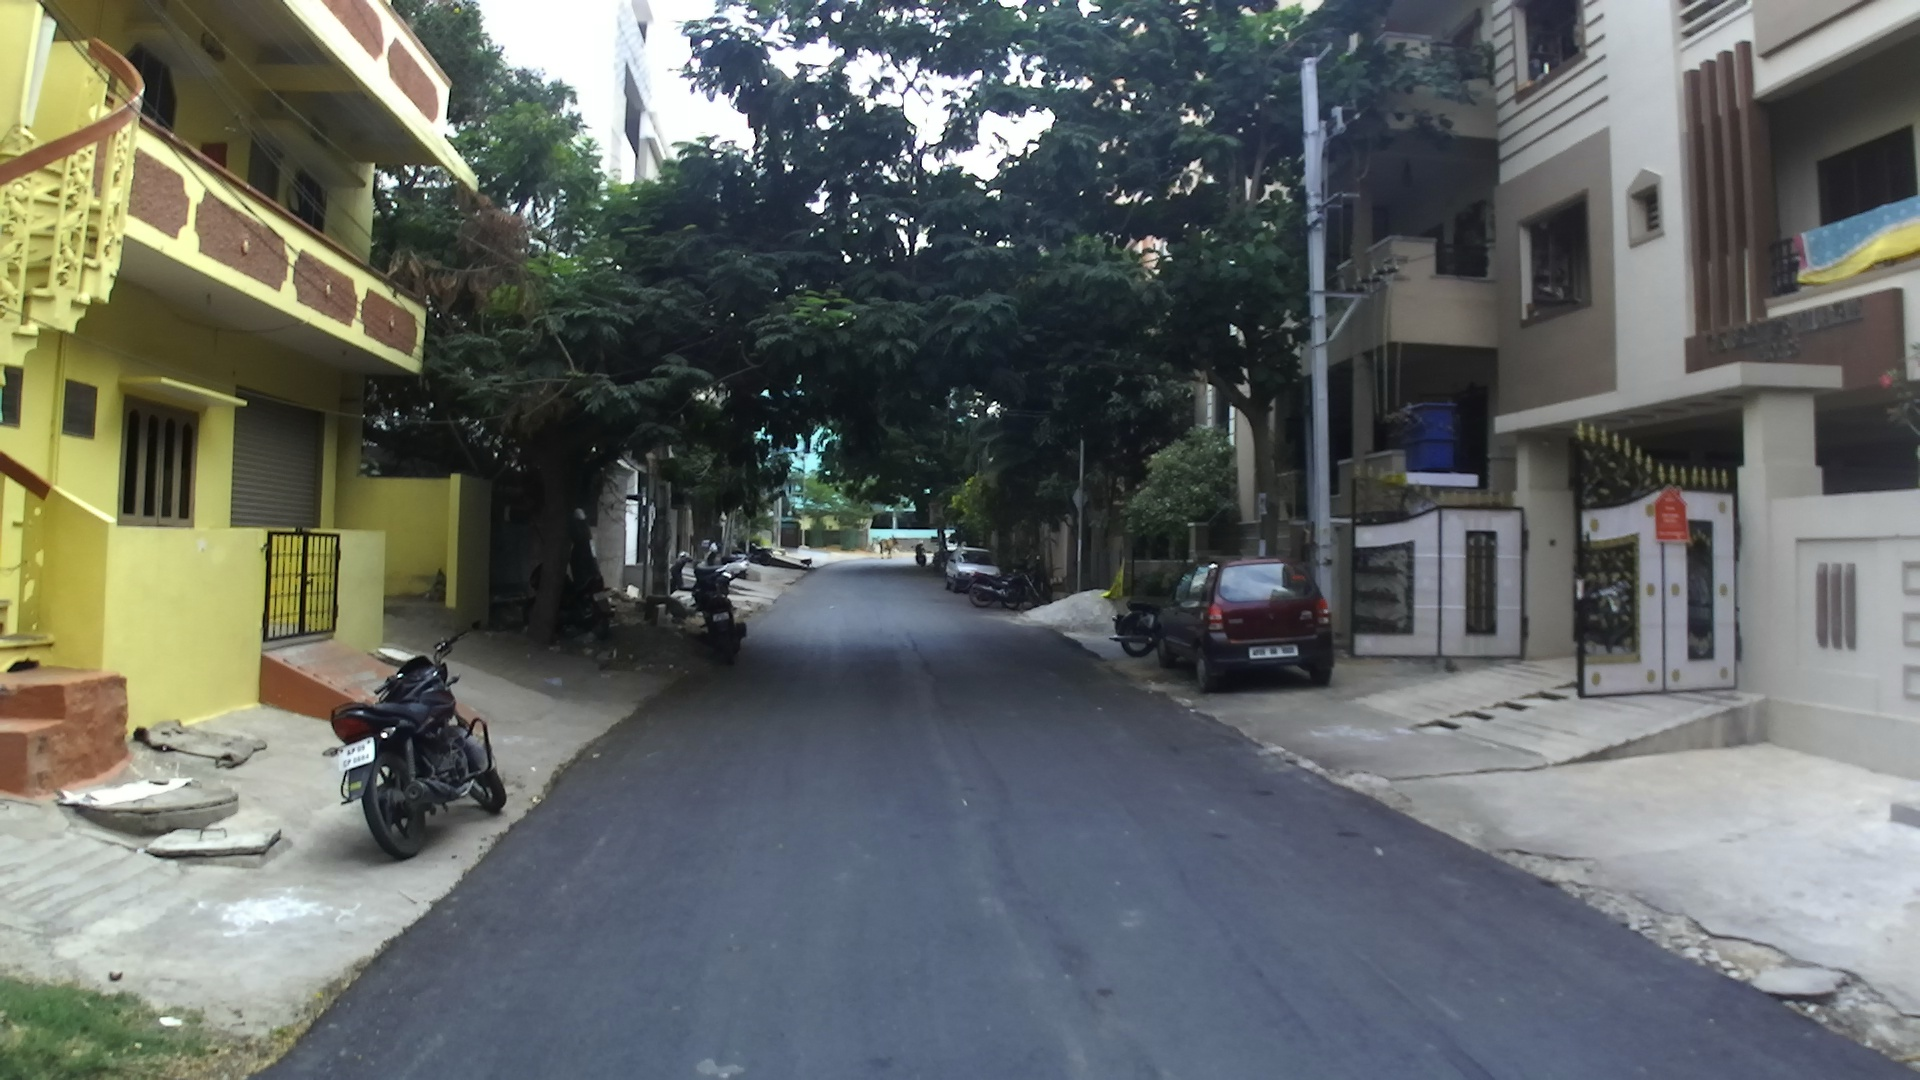vehicle: (330, 645, 506, 862), (1154, 559, 1338, 690), (688, 568, 748, 666), (1113, 605, 1167, 657), (948, 556, 1007, 603)
